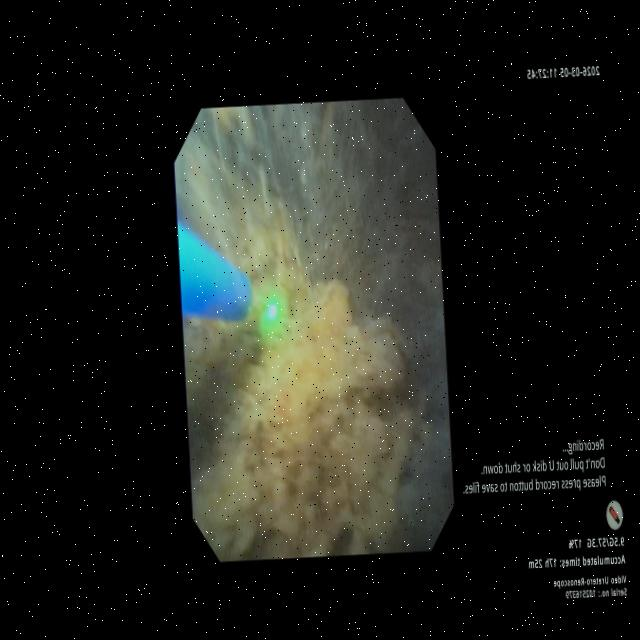laser_dot: (264, 298, 280, 327)
stone-new: (176, 139, 420, 560)
